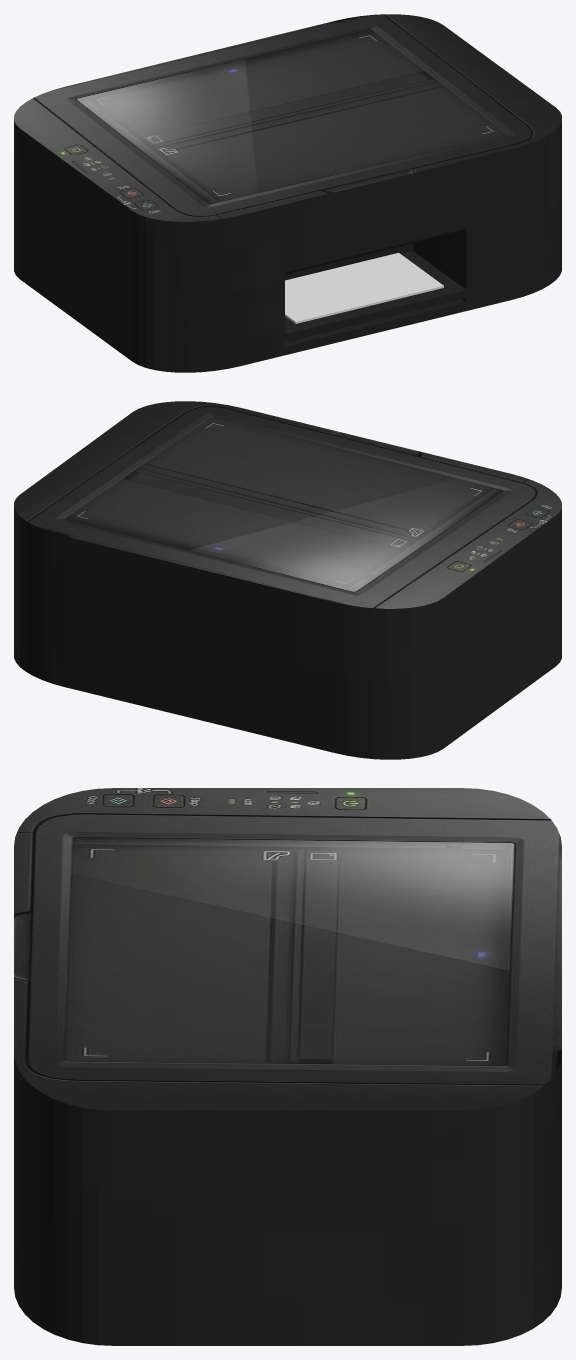
File: printer.fbx
3 views of the same model, one above another, from view 1: azimuth 30°, elevation 25°; view 2: azimuth 150°, elevation 25°; view 3: azimuth 270°, elevation 25° (orthographic). The views are drawn at different scales.
Parts seen in each view (by area): view 1: Cube; view 2: Cube; view 3: Cube.
Boxes of the visible parts, x1,y1,x2,y2 form: Cube: (14,14,561,372); Cube: (14,401,561,759); Cube: (14,788,561,1345).
Size of the model in its own units: 42.6 by 14.5 by 30.6.
Materials: 3 (1 with a texture image).
